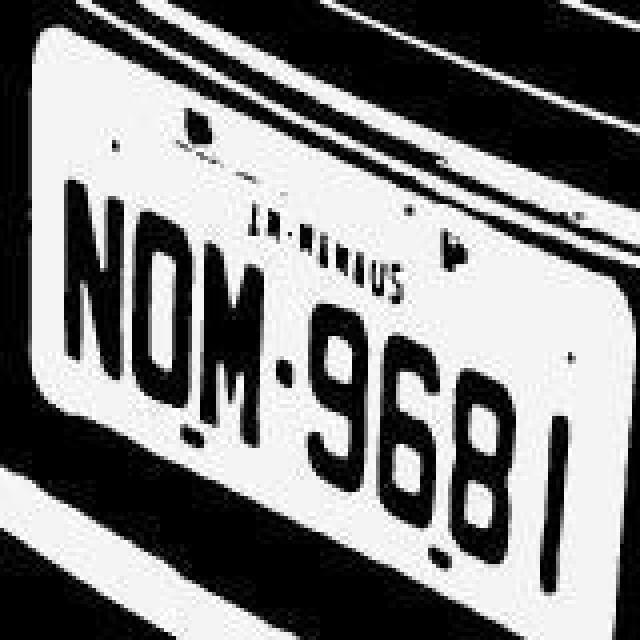1: (536, 378, 600, 614)
6: (384, 330, 448, 542)
8: (448, 356, 528, 564)
9: (298, 304, 374, 512)
M: (190, 228, 266, 460)
N: (58, 162, 134, 382)
O: (124, 208, 196, 416)
